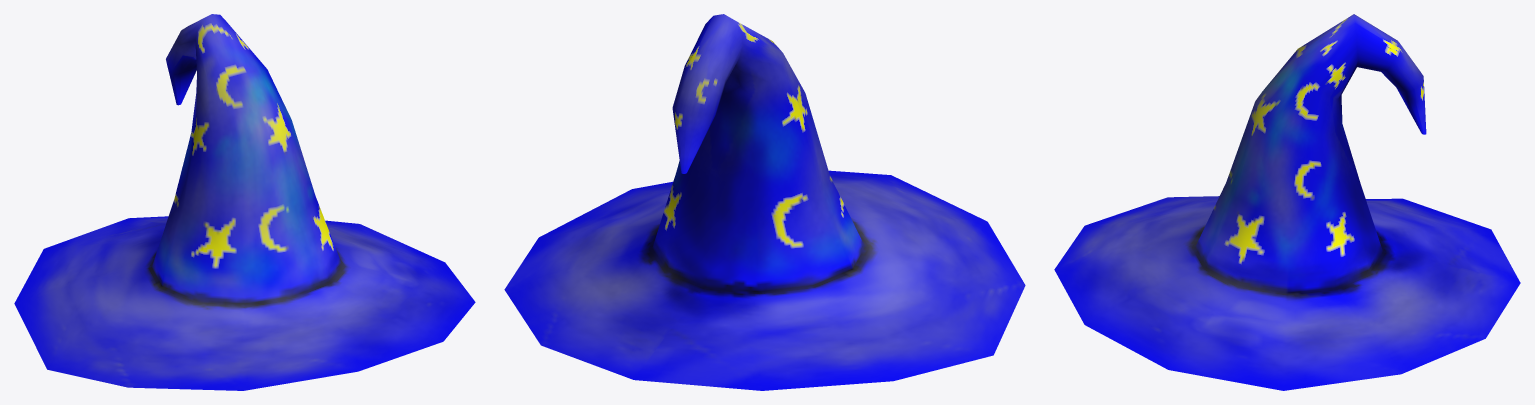
Rendered from wizard hat.fbx.
The picture shows the model from 3 angles, left to right: view 1: azimuth 30°, elevation 25°; view 2: azimuth 150°, elevation 25°; view 3: azimuth 270°, elevation 25°; orthographic projection. The views are drawn at different scales.
Visible parts, largest first — view 1: wizard hat; view 2: wizard hat; view 3: wizard hat.
Boxes of the visible parts, box(x1,y1,x2,y2) form: wizard hat: box(14, 14, 475, 390); wizard hat: box(504, 14, 1025, 390); wizard hat: box(1054, 14, 1520, 390).
Bounding box in the file's own units: 2 × 1.34 × 1.98.
